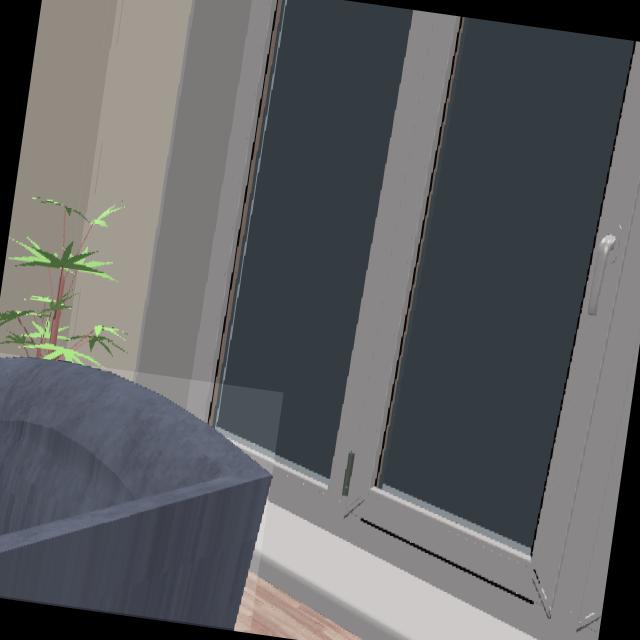sofa: (0, 359, 272, 630)
